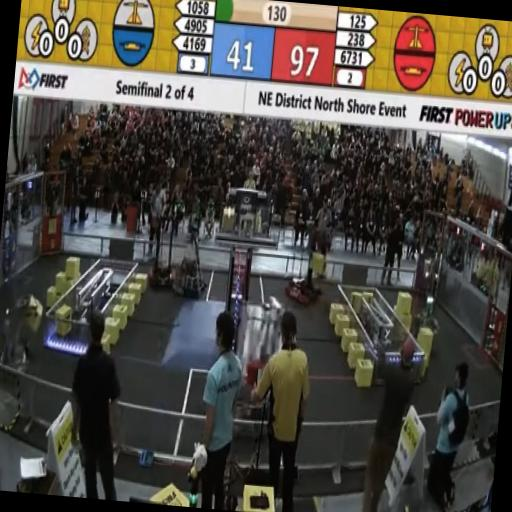robot: (231, 337, 285, 437), (406, 256, 448, 355), (0, 289, 45, 377), (169, 214, 213, 304), (282, 243, 330, 313), (146, 208, 182, 294)
